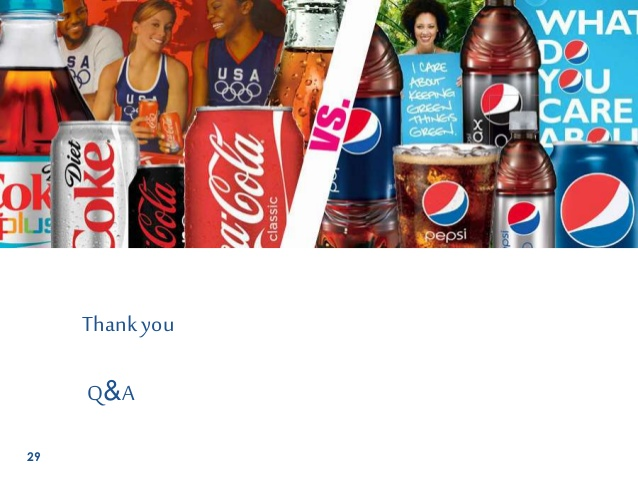pepsi: (559, 170, 633, 247), (419, 174, 468, 224), (477, 79, 522, 126), (336, 106, 380, 154), (477, 81, 522, 126), (507, 201, 539, 235), (561, 36, 589, 63), (557, 66, 582, 93), (587, 124, 609, 141)
